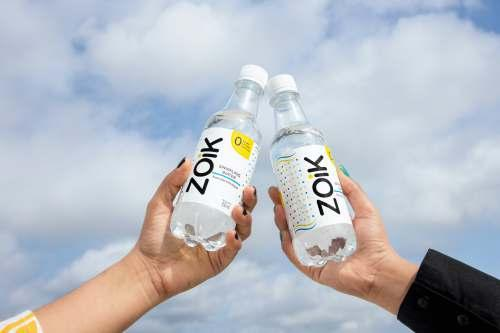bottle: (167, 60, 273, 253), (258, 72, 360, 271)
